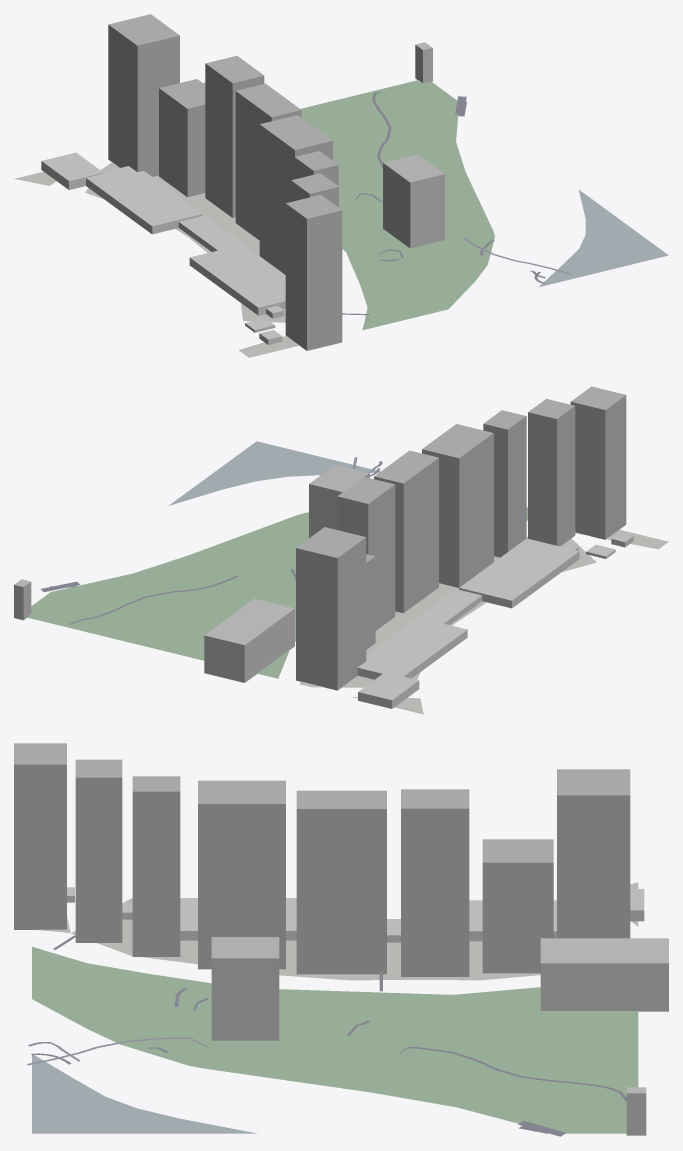
The model's file is 122_78_mid.glb.
The picture shows the model from 3 angles, top to bottom: view 1: azimuth 30°, elevation 25°; view 2: azimuth 150°, elevation 25°; view 3: azimuth 270°, elevation 25°; orthographic projection. The views are drawn at different scales.
Size of the model in its own units: 511 by 154 by 540.
